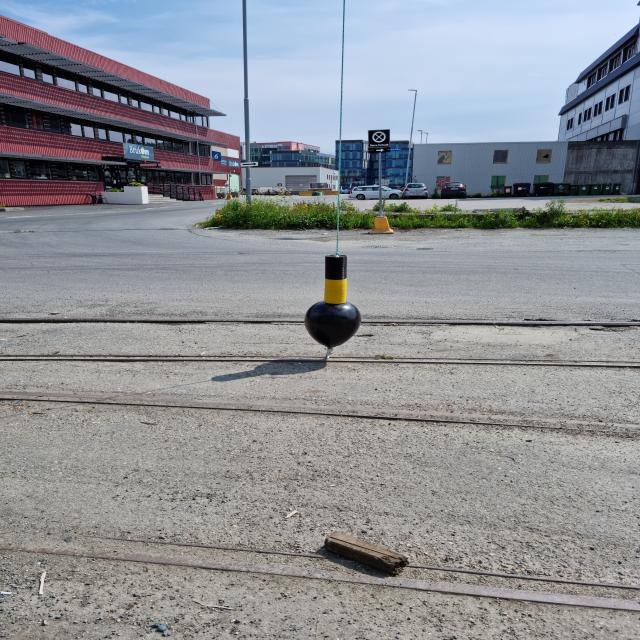east: (304, 255, 362, 346)
